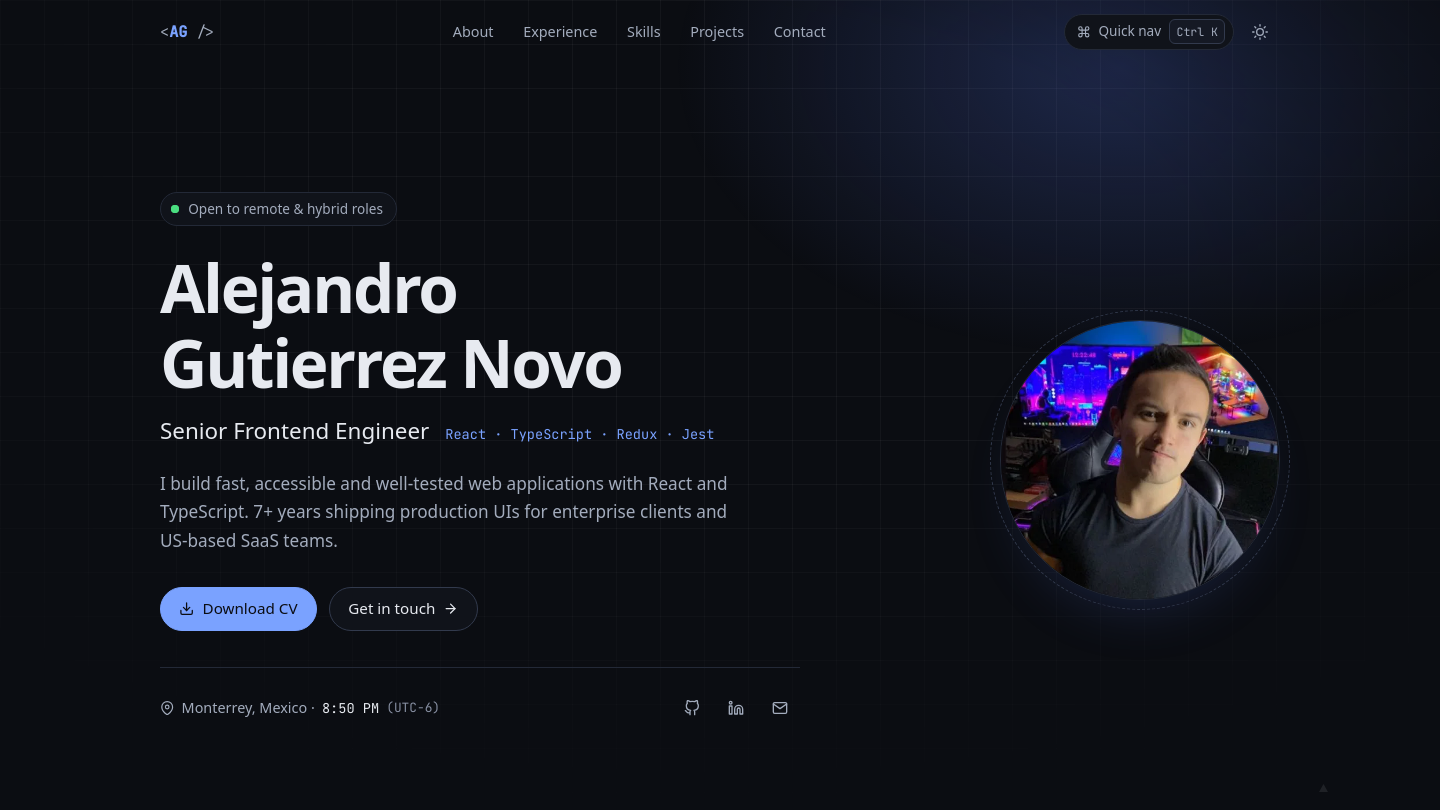
App › toggles and persists the colour theme
Step 1. Click the button named "switch to light theme" → (1260, 32), box [1240, 12, 1280, 52]
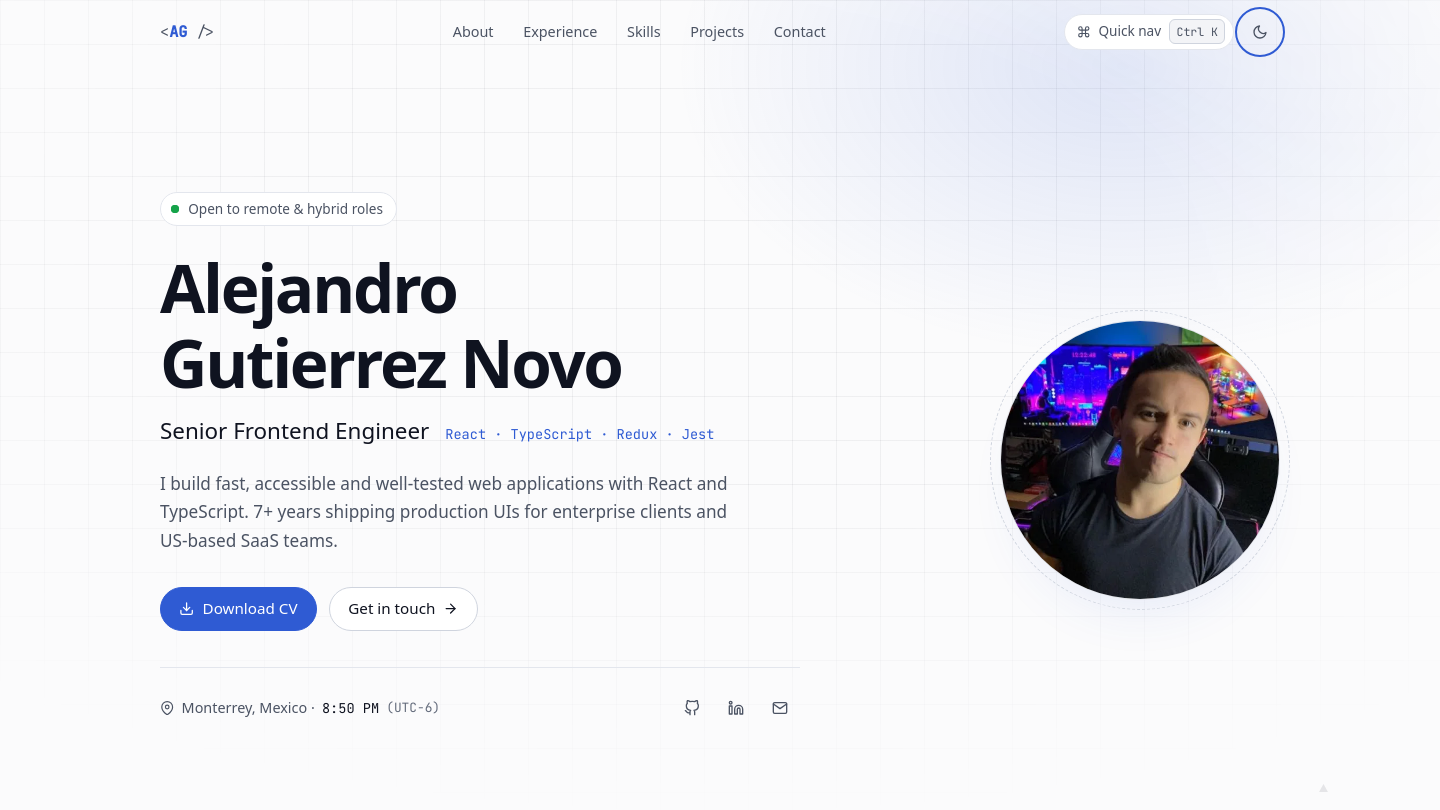
Expected: the button named "switch to dark theme" is shown, [1240, 12, 1280, 52]
